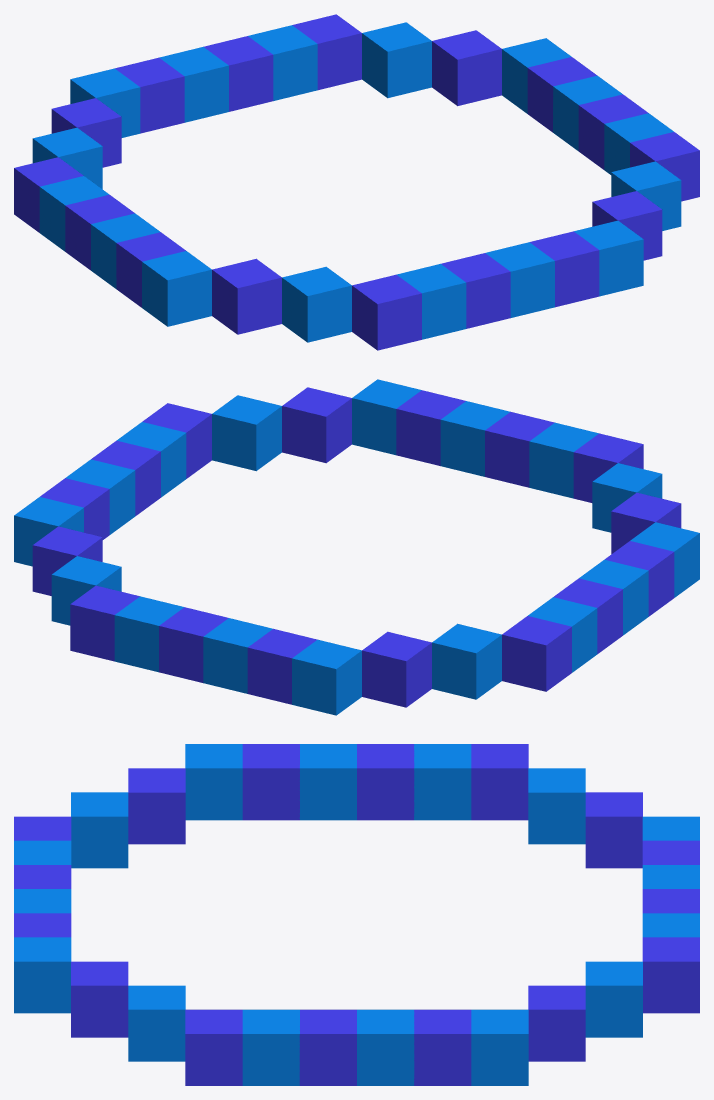
The model's file is Shaman Manual Outer Ring 1.obj.
The picture shows the model from 3 angles, top to bottom: view 1: azimuth 30°, elevation 25°; view 2: azimuth 150°, elevation 25°; view 3: azimuth 270°, elevation 25°; orthographic projection. The views are drawn at different scales.
Parts seen in each view (by area): view 1: Shaman Manual Outer Ring 1; view 2: Shaman Manual Outer Ring 1; view 3: Shaman Manual Outer Ring 1.
Boxes of the visible parts, x1,y1,x2,y2 form: Shaman Manual Outer Ring 1: (14,14,699,350); Shaman Manual Outer Ring 1: (14,379,699,715); Shaman Manual Outer Ring 1: (14,744,699,1085).
Size of the model in its own units: 12 by 1 by 12.
1 material, 1 textured.
